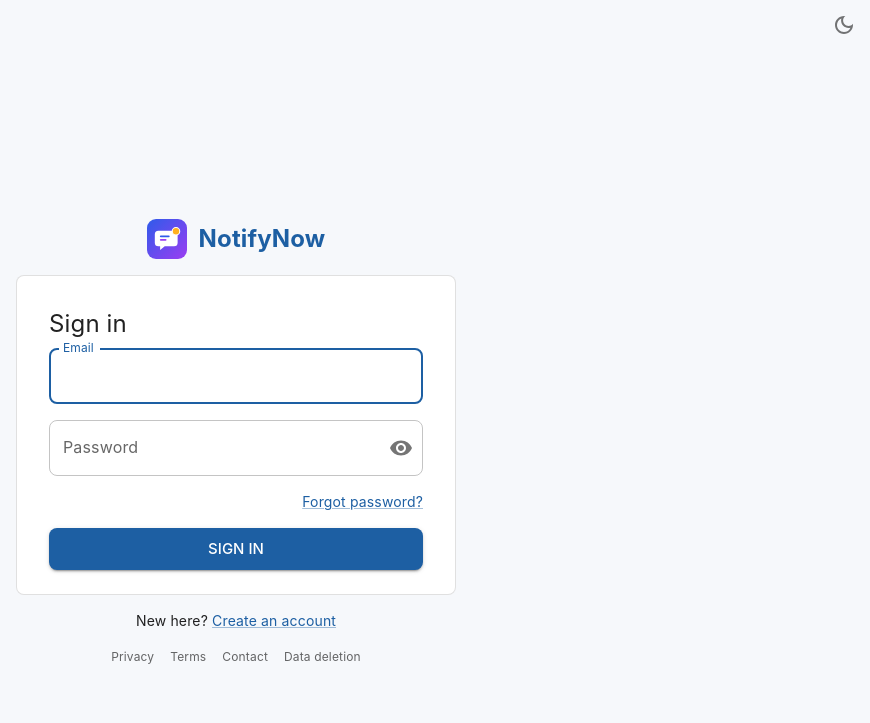
LoginPage › shows wrong credentials, lockout time, and sends unverified users to the code screen
Type "asha@example.com" into the field labelled "Email" at (236, 376), box x1=49 y1=348 x2=423 y2=404
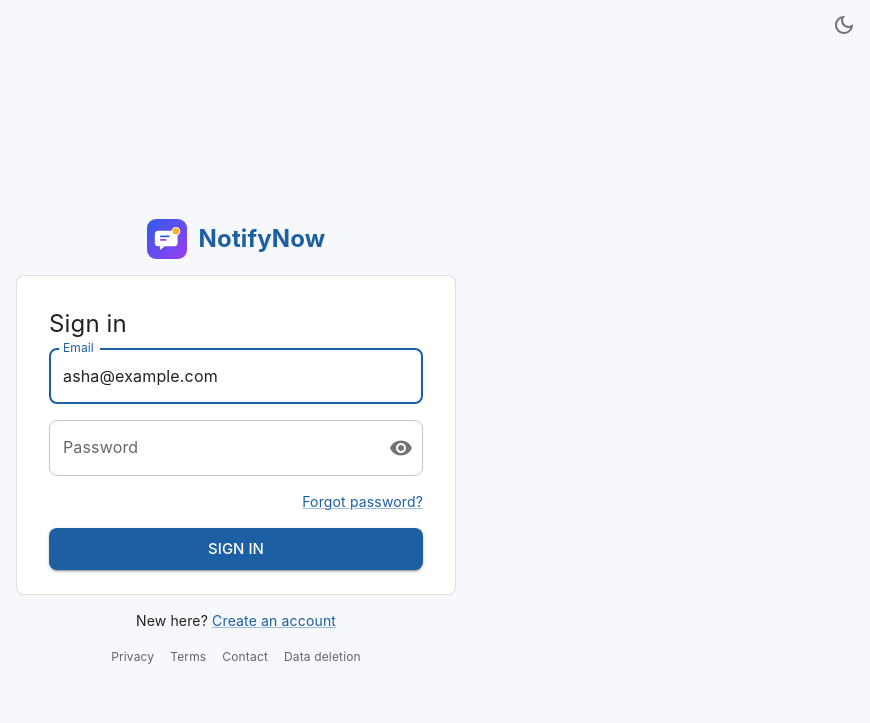
Type "x" into the password field labelled "Password" at (211, 448), box x1=49 y1=420 x2=373 y2=476
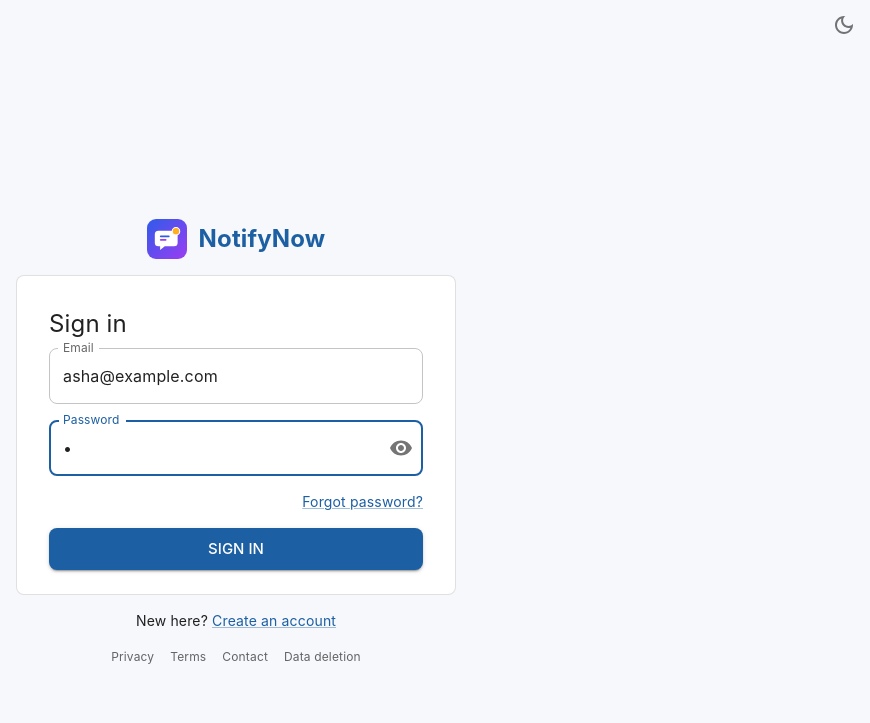
Click the button "Sign in" at (236, 549), box x1=49 y1=528 x2=423 y2=570
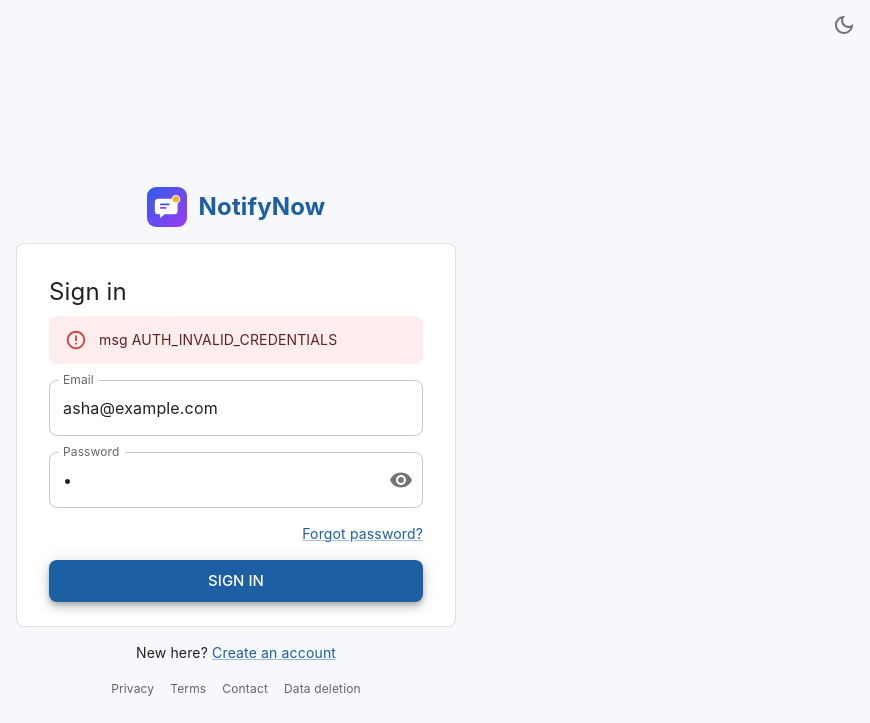
Expected: the text "msg AUTH_INVALID_CREDENTIALS" is shown, x1=99 y1=331 x2=337 y2=348
Click the button "Sign in" at (236, 581), box x1=49 y1=560 x2=423 y2=602
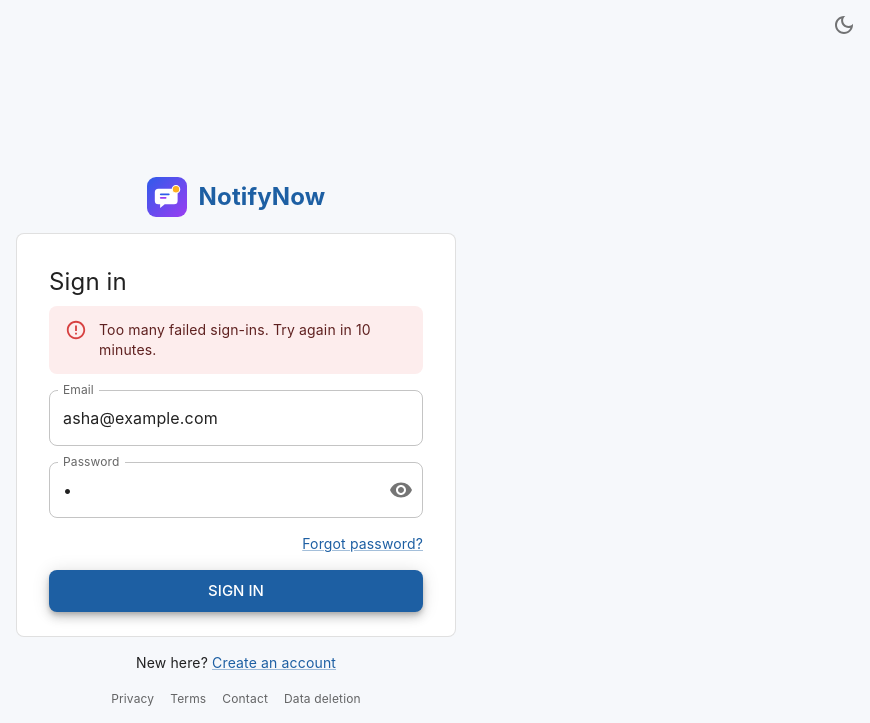
Expected: the text "Too many failed sign-ins. Try again in 10 minutes." is shown, x1=99 y1=312 x2=407 y2=368
Click the button "Sign in" at (236, 591), box x1=49 y1=570 x2=423 y2=612
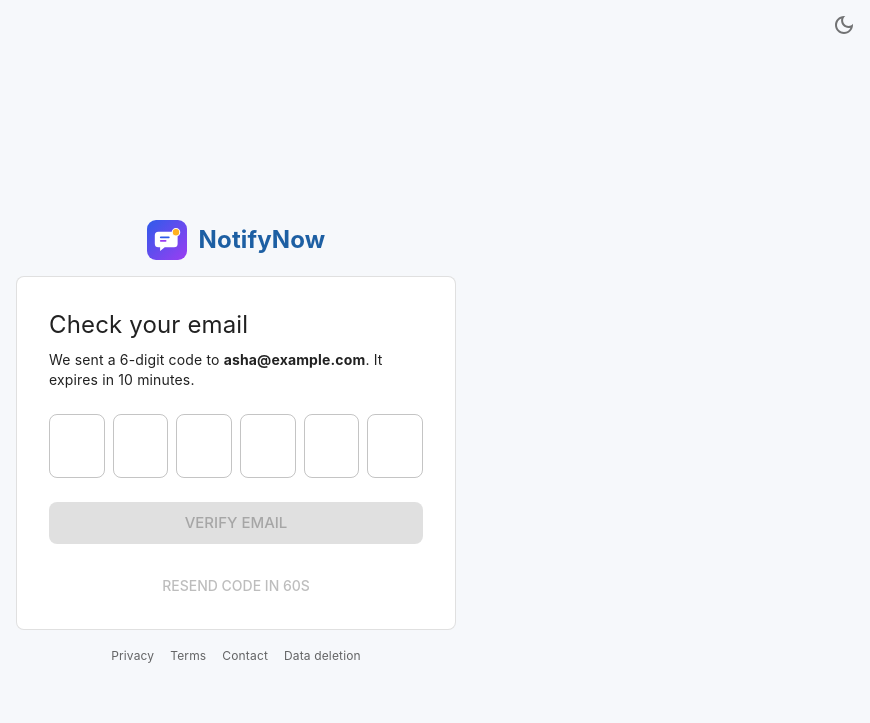
Expected: the heading "Check your email" is shown, x1=49 y1=310 x2=248 y2=339
Expected: the text "asha@example.com" is shown, x1=224 y1=350 x2=365 y2=368
